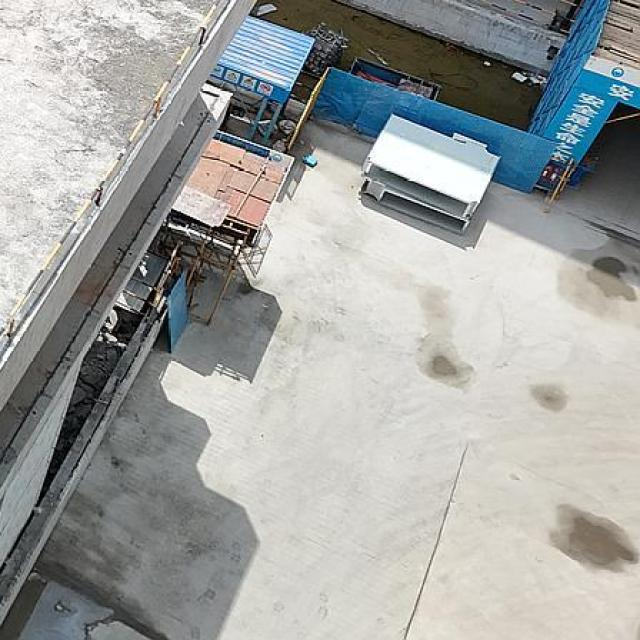edge_guardrail: (0, 0, 221, 340), (490, 0, 585, 34)
